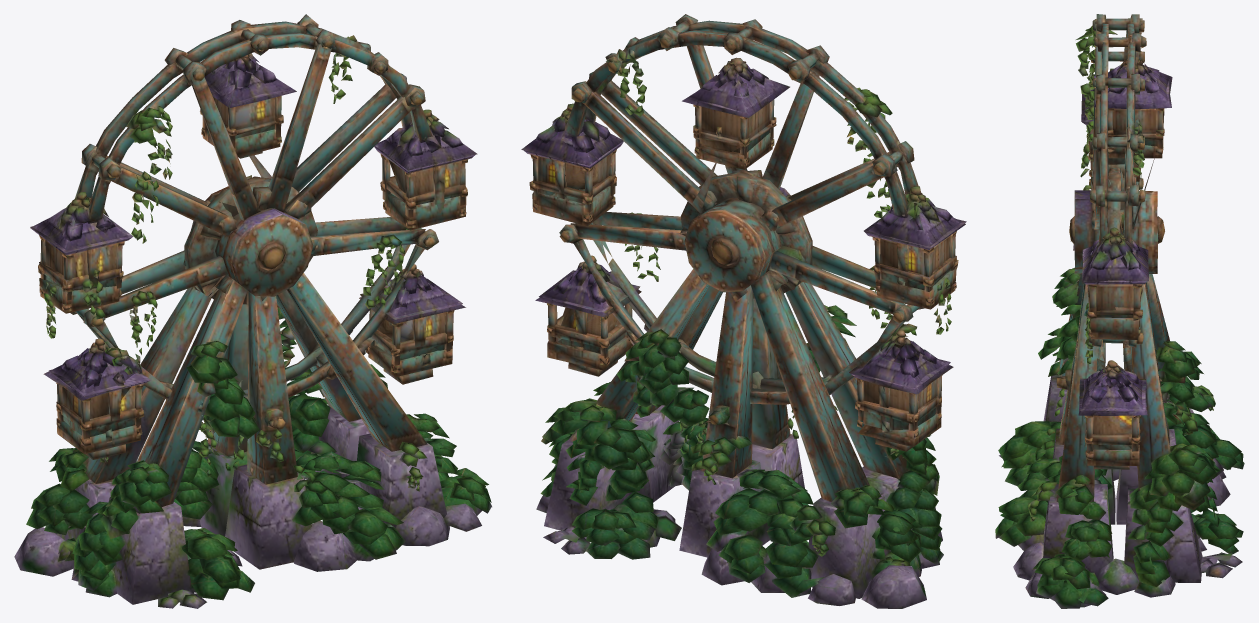
Rendered from wheel.glb.
The picture shows the model from 3 angles, left to right: view 1: azimuth 30°, elevation 25°; view 2: azimuth 150°, elevation 25°; view 3: azimuth 270°, elevation 25°; orthographic projection. The views are drawn at different scales.
Size of the model in its own units: 0.8633 by 1 by 0.4732.
Materials: 1 (1 with a texture image).
